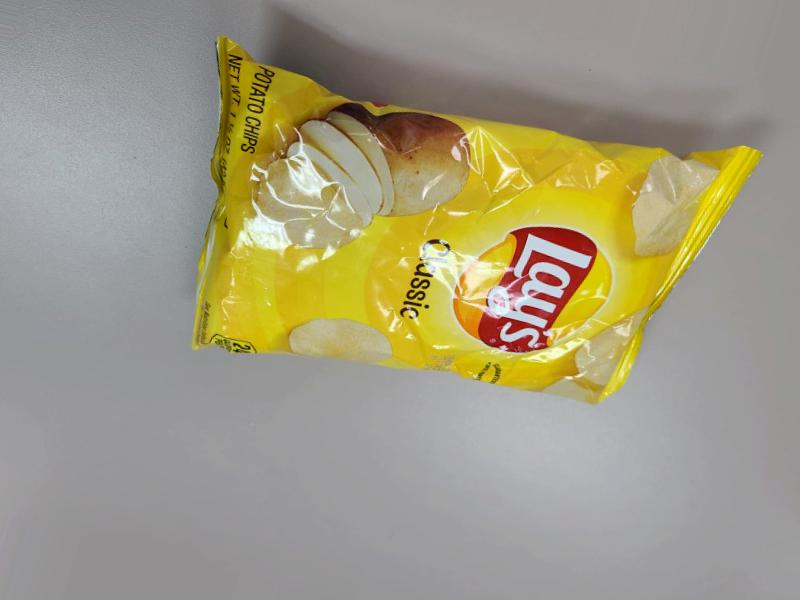lays: (273, 128, 800, 427)
